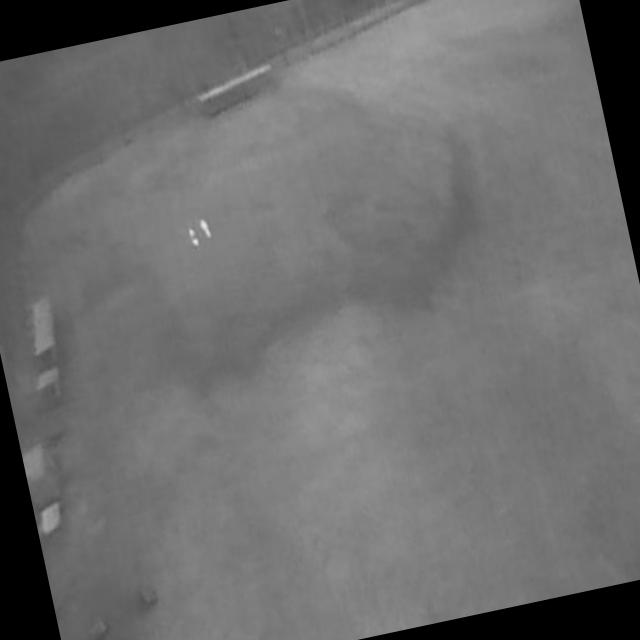person: (188, 227, 203, 252), (199, 218, 213, 241)
